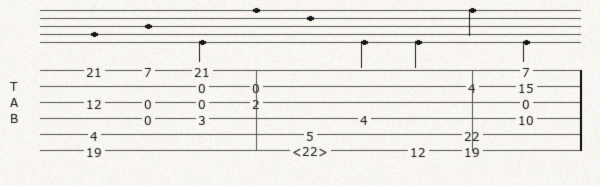0: (144, 96, 156, 109), (144, 112, 156, 125), (198, 96, 210, 109), (198, 80, 210, 93), (252, 80, 264, 93), (522, 96, 534, 109)
10: (518, 112, 538, 125)
12: (86, 96, 106, 109), (410, 144, 430, 157)
15: (518, 80, 538, 93)
19: (86, 144, 106, 157), (464, 144, 484, 157)
2: (252, 96, 264, 109)
21: (86, 64, 106, 77), (194, 64, 214, 77)
22: (464, 128, 484, 141)
3: (198, 112, 210, 125)
4: (90, 128, 102, 141), (360, 112, 372, 125), (468, 80, 480, 93)
5: (306, 128, 318, 141)
7: (144, 64, 156, 77), (522, 64, 534, 77)
harmonic: (292, 143, 332, 157)
